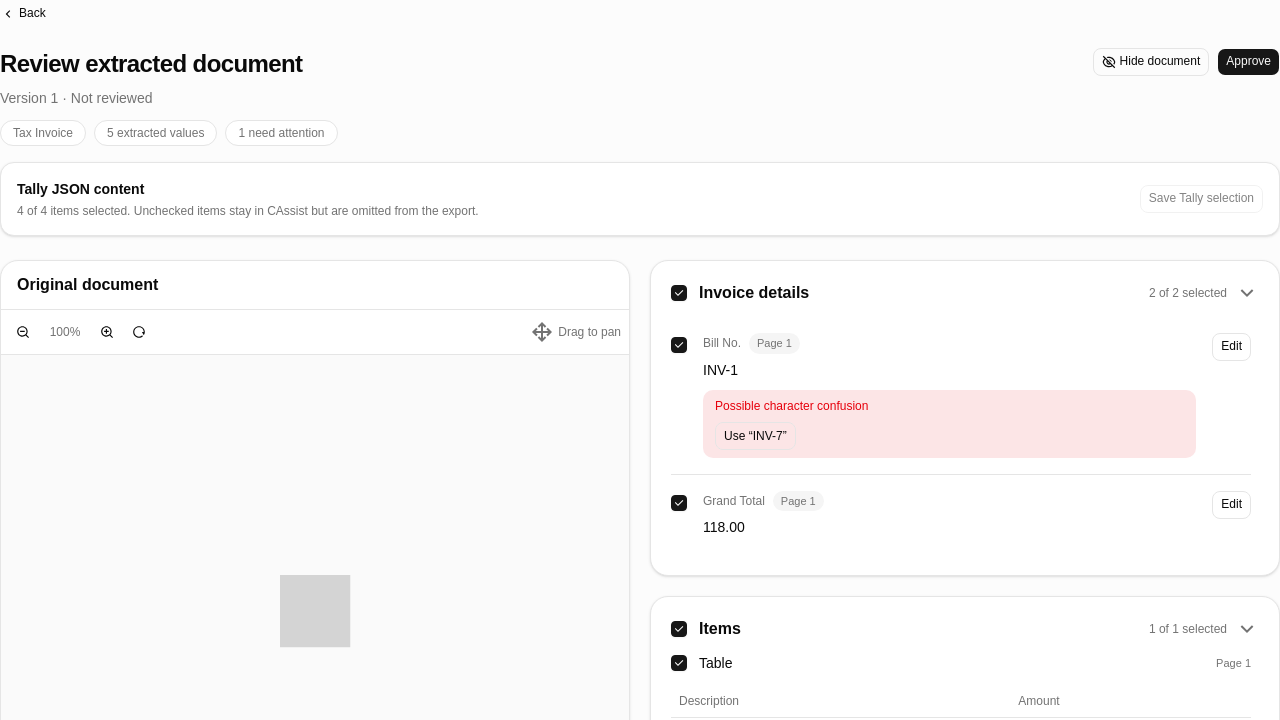
ReviewPage › copies a value by clicking it and shows brief feedback
This screenshot has width=1280, height=720.
Click the button with aria-label "Copy Bill No.: INV-1" at (720,370), box [703,360,738,380]
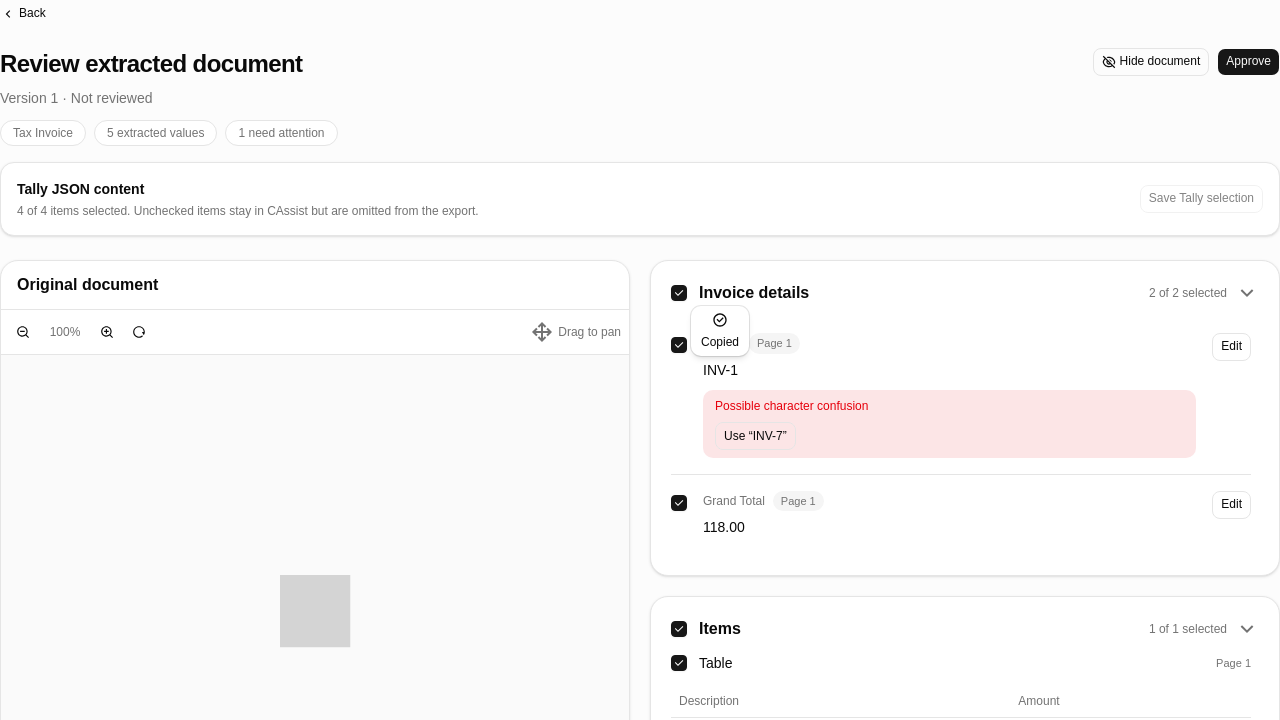
Expected: the text "Copied" is shown, [701,334,739,350]
